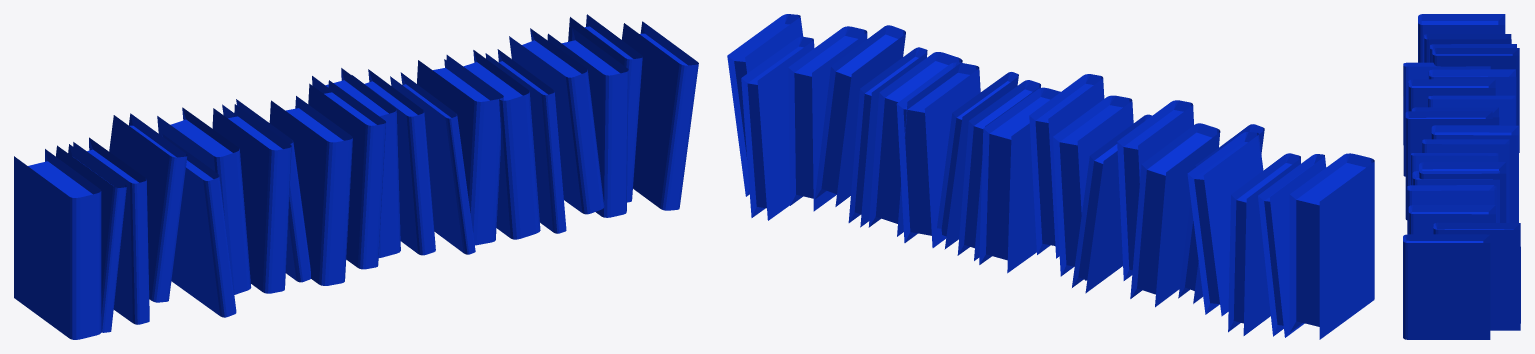
File: books.glb
3 renders of one model, left to right at view 1: azimuth 30°, elevation 25°; view 2: azimuth 150°, elevation 25°; view 3: azimuth 270°, elevation 25°, orthographic. The views are drawn at different scales.
Parts seen in each view (by area): view 1: Cube.011; view 2: Cube.011; view 3: Cube.011.
Part boxes in pixels (left/top/right/bottom): Cube.011: left=14, top=14, right=698, bottom=339; Cube.011: left=727, top=14, right=1374, bottom=339; Cube.011: left=1403, top=14, right=1520, bottom=339.
Size of the model in its own units: 10.38 by 2.55 by 2.32.
